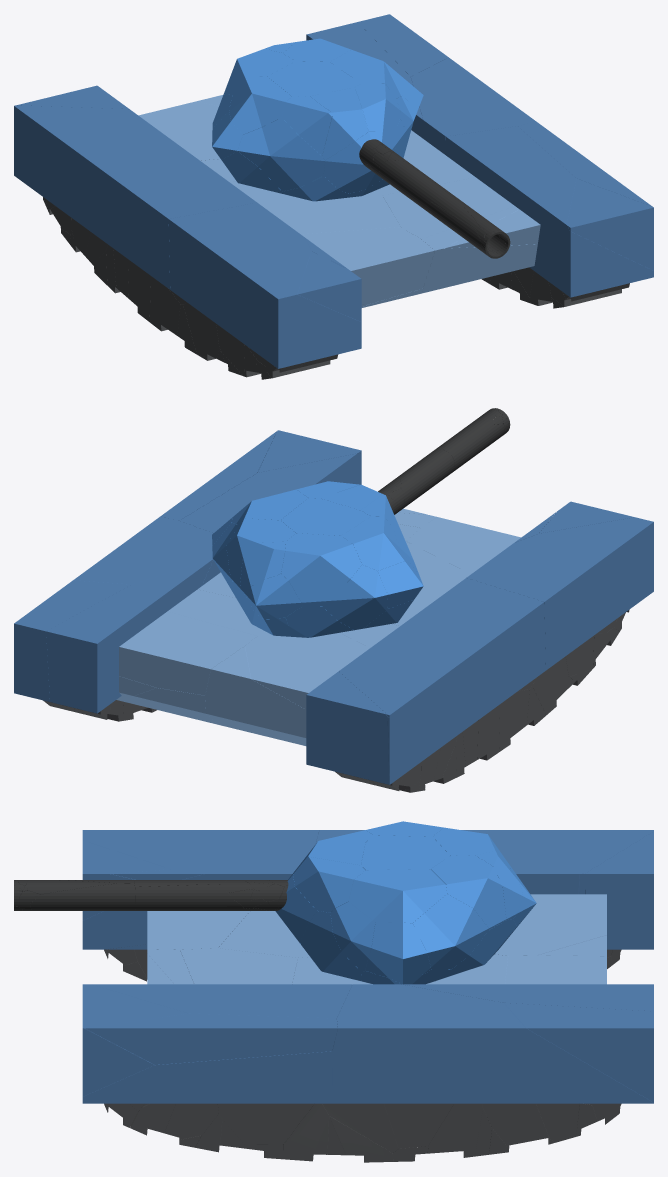
The model's file is enemy_fracture.obj.
The picture shows the model from 3 angles, top to bottom: view 1: azimuth 30°, elevation 25°; view 2: azimuth 150°, elevation 25°; view 3: azimuth 270°, elevation 25°; orthographic projection. The views are drawn at different scales.
Parts seen in each view (by area): view 1: tank.004_cell.002, tank.004_cell, tank.003_cell, tank.003_cell.005, tank.006_cell.015, tank.003_cell.002, tank.006_cell, tank.006_cell.007, tank.001_cell.003, tank.006_cell.006, tank.004_cell.005, tank.006_cell.010 (+27 smaller); view 2: tank.004_cell.002, tank.004_cell, tank.003_cell.001, tank.004_cell.006, tank.006_cell.011, tank.006_cell.010, tank.006_cell.012, tank.003_cell.005, tank.003_cell.004, tank.003_cell, tank.001_cell.019, tank.006_cell.015 (+28 smaller); view 3: tank.003_cell.005, tank.003_cell, tank.004_cell, tank.003_cell.003, tank.003_cell.004, tank.004_cell.002, tank.004_cell.006, tank.003_cell.002, tank.006_cell.010, tank.003_cell.001, tank.001_cell.014, tank.006_cell.006 (+39 smaller).
Boxes of the visible parts, bbox=[...] form: tank.004_cell.002: bbox=[14, 105, 256, 289]; tank.004_cell: bbox=[168, 202, 361, 368]; tank.003_cell: bbox=[445, 126, 653, 297]; tank.003_cell.005: bbox=[411, 57, 535, 154]; tank.006_cell.015: bbox=[301, 227, 434, 304]; tank.003_cell.002: bbox=[566, 179, 653, 270]; tank.006_cell: bbox=[230, 181, 400, 234]; tank.006_cell.007: bbox=[421, 206, 537, 292]; tank.001_cell.003: bbox=[237, 117, 325, 191]; tank.006_cell.006: bbox=[382, 177, 514, 239]; tank.004_cell.005: bbox=[297, 251, 361, 321]; tank.006_cell.010: bbox=[138, 101, 220, 160]; tank.004_cell.002: bbox=[339, 578, 545, 784]; tank.004_cell: bbox=[466, 517, 653, 670]; tank.003_cell.001: bbox=[46, 559, 213, 713]; tank.004_cell.006: bbox=[306, 671, 389, 784]; tank.006_cell.011: bbox=[119, 611, 257, 695]; tank.006_cell.010: bbox=[245, 632, 369, 709]; tank.006_cell.012: bbox=[205, 646, 306, 745]; tank.003_cell.005: bbox=[14, 516, 220, 693]; tank.003_cell.004: bbox=[14, 580, 131, 701]; tank.003_cell: bbox=[180, 453, 361, 533]; tank.001_cell.019: bbox=[281, 533, 361, 606]; tank.006_cell.015: bbox=[406, 517, 520, 573]; tank.003_cell.005: bbox=[332, 984, 653, 1103]; tank.003_cell: bbox=[82, 984, 352, 1103]; tank.004_cell: bbox=[82, 830, 319, 949]; tank.003_cell.003: bbox=[85, 1013, 337, 1064]; tank.003_cell.004: bbox=[504, 1002, 653, 1102]; tank.004_cell.002: bbox=[316, 830, 652, 894]; tank.004_cell.006: bbox=[585, 832, 653, 949]; tank.003_cell.002: bbox=[82, 984, 187, 1096]; tank.006_cell.010: bbox=[494, 894, 606, 955]; tank.003_cell.001: bbox=[402, 984, 653, 1011]; tank.001_cell.014: bbox=[348, 869, 446, 923]; tank.006_cell.006: bbox=[180, 948, 297, 984].
Size of the model in its own units: 9.02 by 4.54 by 12.3.
Materials: 7 (7 with a texture image).
